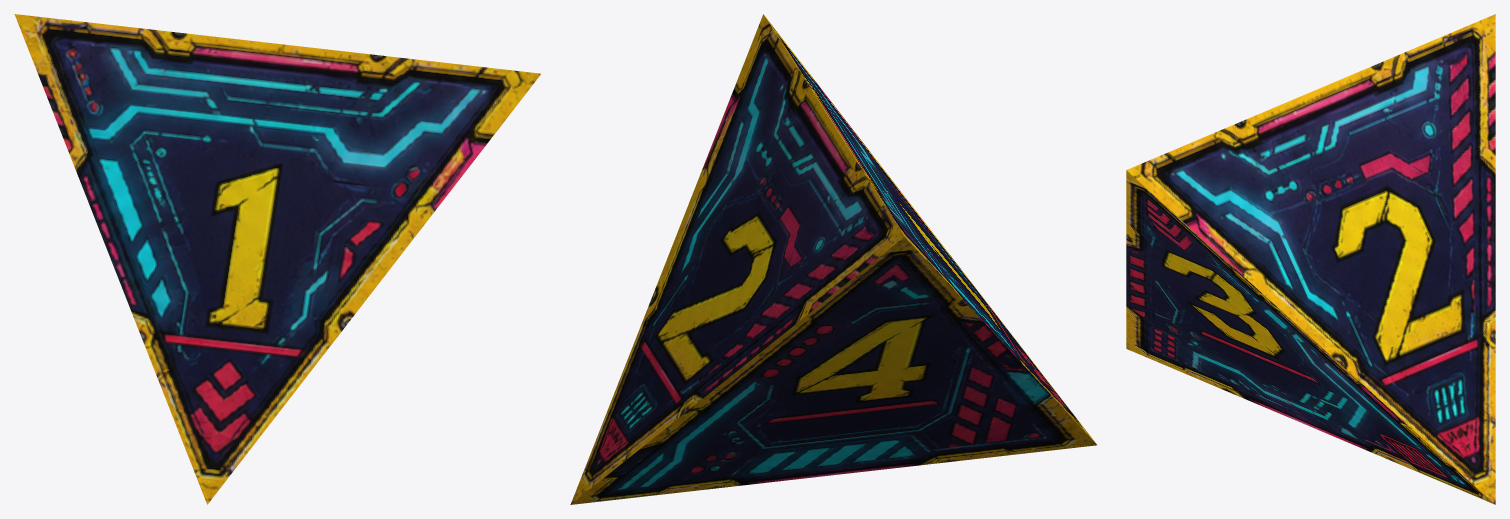
3 renders of one model, left to right at view 1: azimuth 30°, elevation 25°; view 2: azimuth 150°, elevation 25°; view 3: azimuth 270°, elevation 25°, orthographic. The views are drawn at different scales.
Visible parts, largest first — view 1: Themed_D4; view 2: Themed_D4; view 3: Themed_D4.
Boxes of the visible parts, x1=… form: Themed_D4: x1=14, y1=14, x2=540, y2=504; Themed_D4: x1=570, y1=14, x2=1096, y2=504; Themed_D4: x1=1126, y1=14, x2=1495, y2=504.
Bounding box in the file's own units: 0.8314 × 0.8314 × 0.8314.
Materials: 1 (1 with a texture image).
